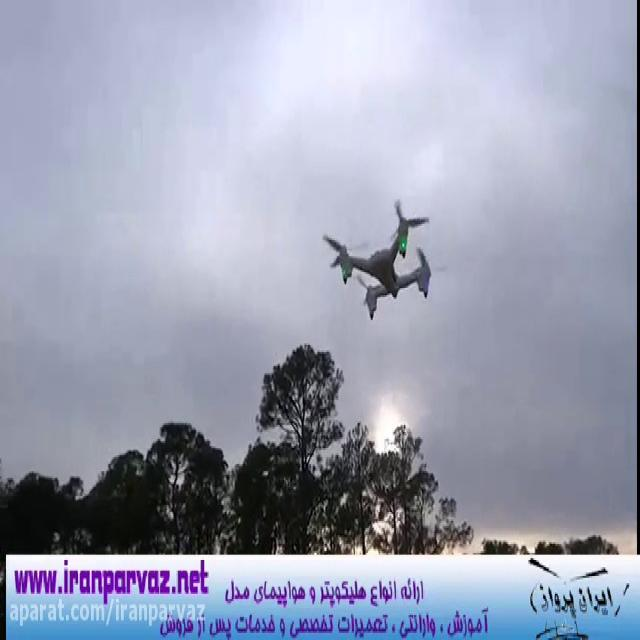drone: (319, 192, 448, 322)
